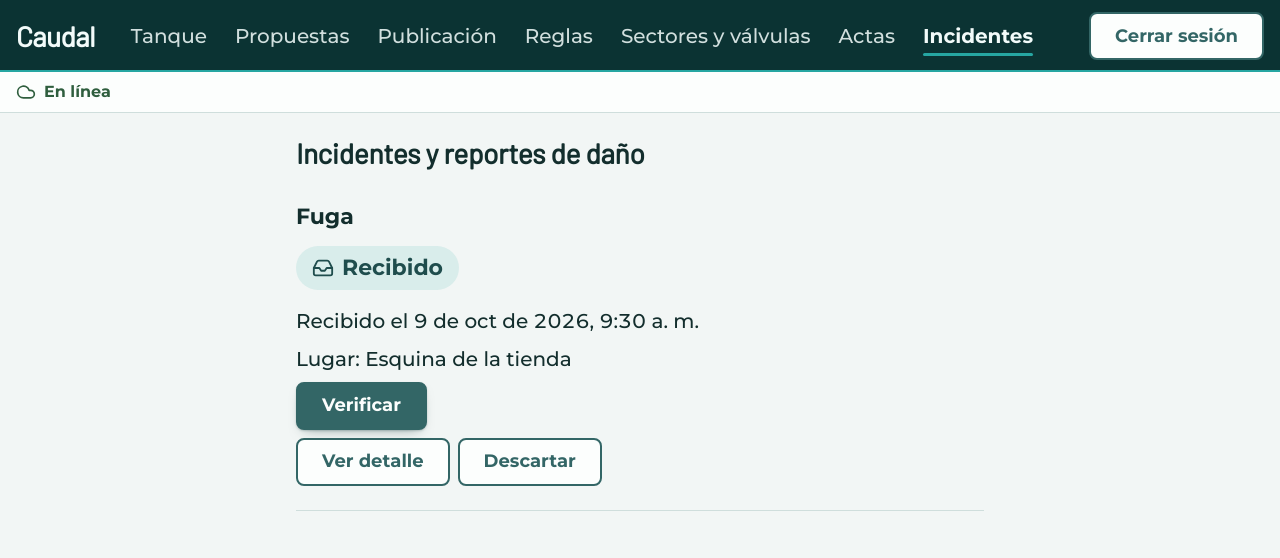
Test: IncidentsPage (S21, board) › moves a report forward with the main action and shows the new status
Click the button "Verificar": (362,406) [296,382,427,430]
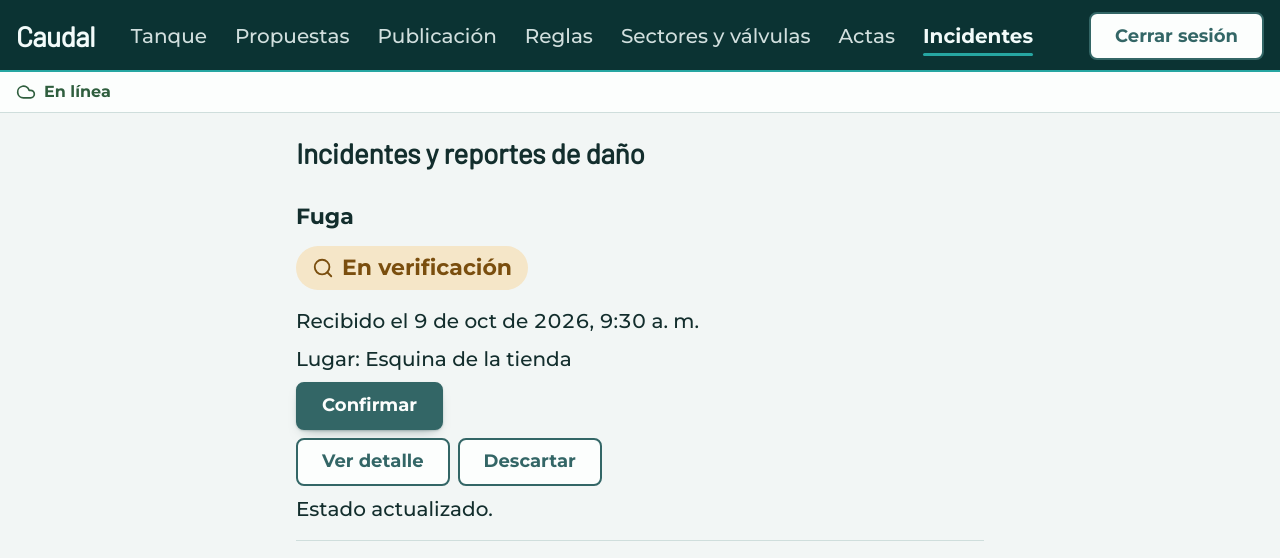
Expected: the text "Estado actualizado." is shown, [296,494,493,524]
Expected: the text "En verificación" is shown, [342,254,512,282]
Expected: the button "Confirmar" is shown, [296,382,443,430]
